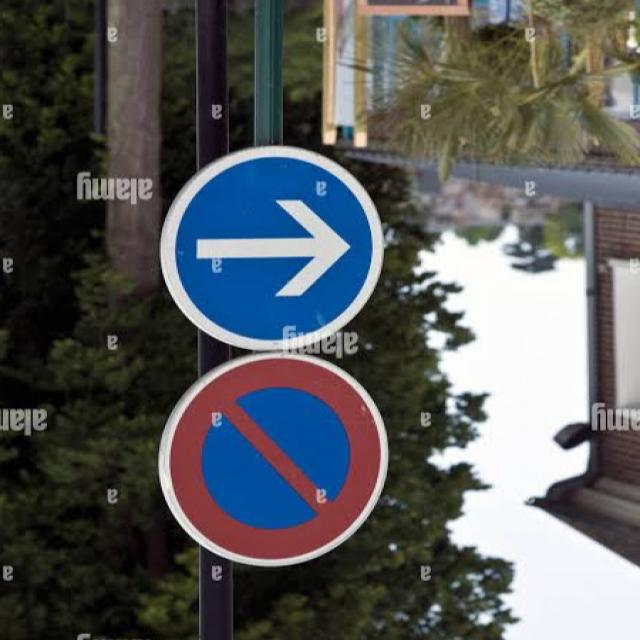Turn Right: (170, 135, 387, 338)
